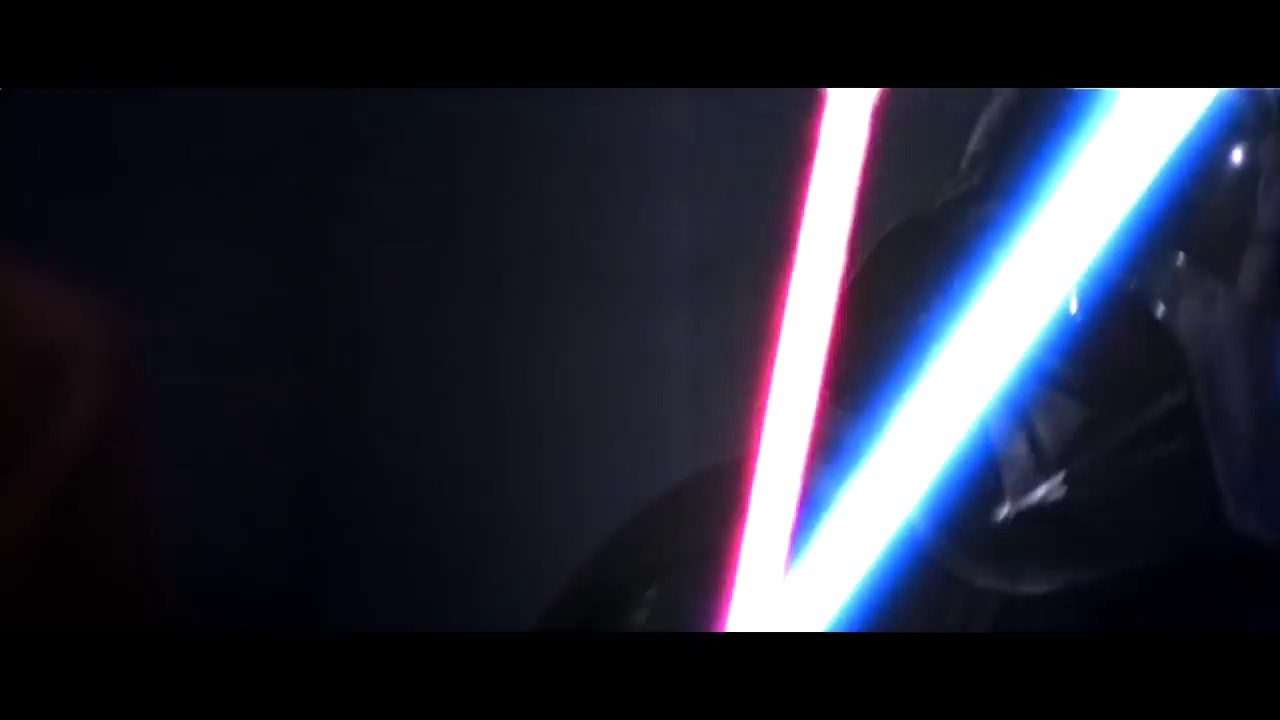lightsaber: (717, 77, 1243, 634)
